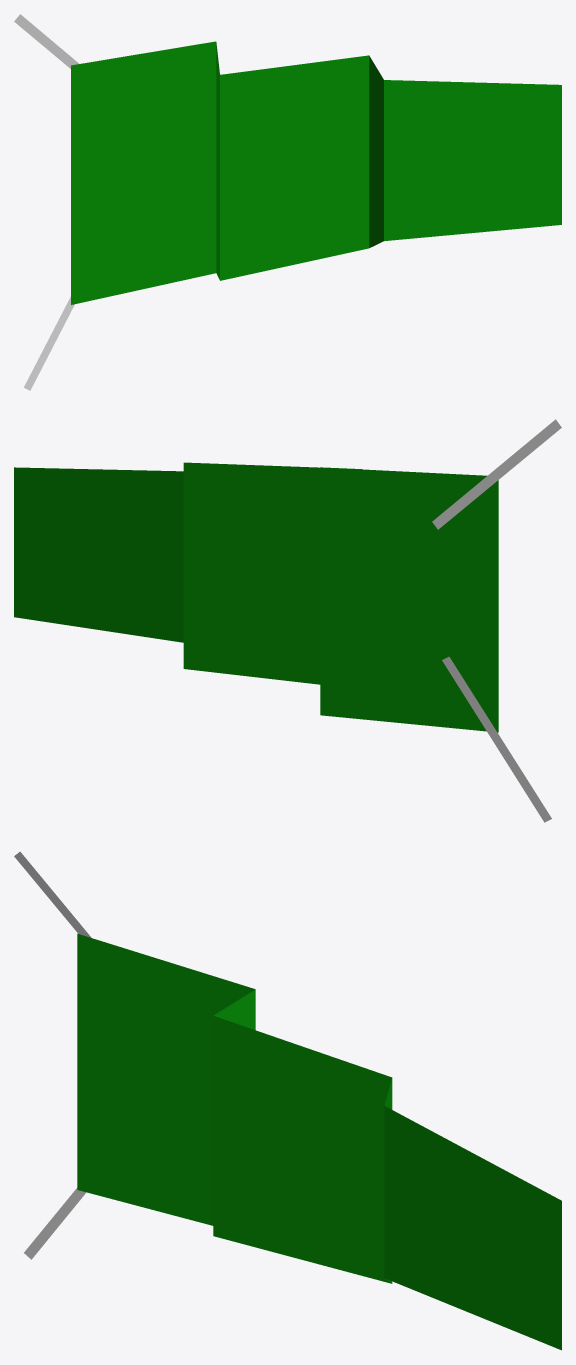
Rendered from Flag_Green.fbx.
3 views of the same model, one above another, from view 1: azimuth 30°, elevation 25°; view 2: azimuth 150°, elevation 25°; view 3: azimuth 330°, elevation 25° (orthographic). The views are drawn at different scales.
Visible parts, largest first — view 1: Flag_Green; view 2: Flag_Green; view 3: Flag_Green.
Boxes of the visible parts, left/top/right/bottom form: Flag_Green: left=14, top=14, right=561, bottom=390; Flag_Green: left=14, top=419, right=561, bottom=822; Flag_Green: left=14, top=851, right=561, bottom=1350.
Size of the model in its own units: 110 by 75.05 by 10.64.
